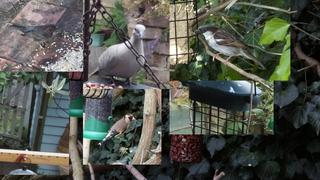blackbird: (9, 24, 59, 51)
collared dove: (88, 24, 146, 86)
goldfinch: (97, 113, 137, 148)
sparrow: (194, 24, 266, 69)
